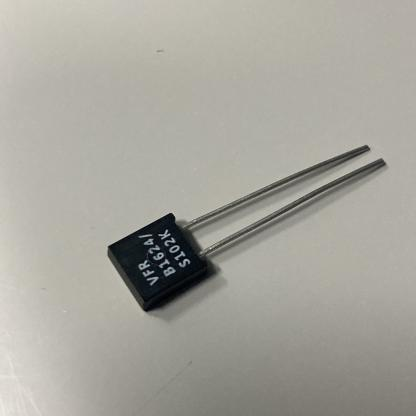SP0000008: (50, 119, 416, 332)
